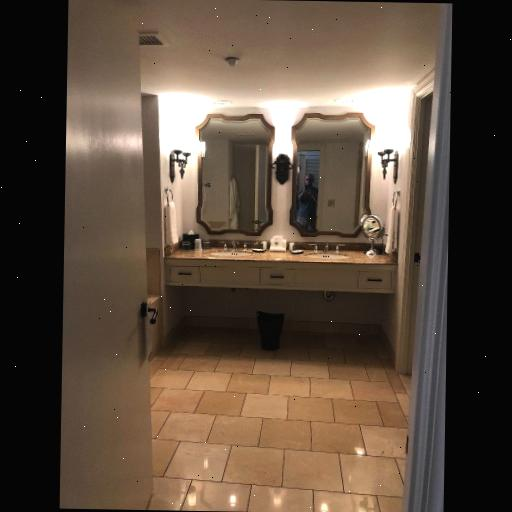clean_floor: (136, 324, 419, 512)
clean_sink: (165, 232, 400, 295)
clean_toilet: (57, 0, 450, 512)
folded_towel: (381, 204, 407, 259), (158, 200, 187, 247)
